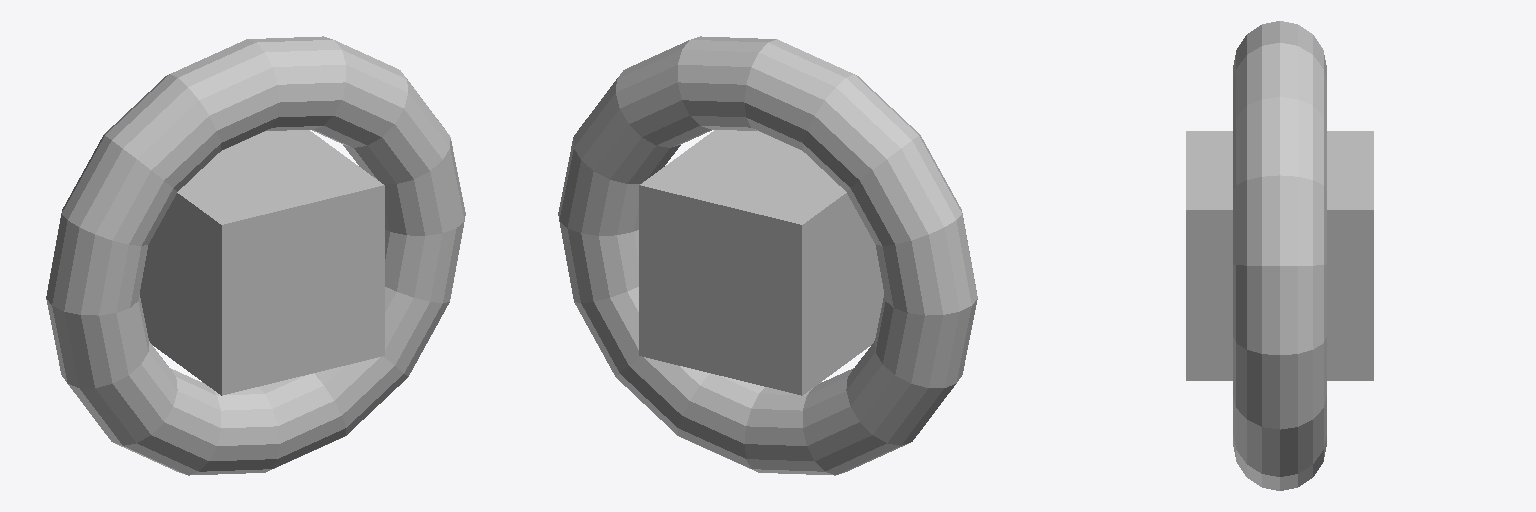
The model's file is tcube.obj.
The picture shows the model from 3 angles: view 1: azimuth 30°, elevation 25°; view 2: azimuth 150°, elevation 25°; view 3: azimuth 270°, elevation 25°; orthographic projection.
Visible parts, largest first — view 1: Torus, Cube; view 2: Torus, Cube; view 3: Torus, Cube.
Boxes of the visible parts, <box> form: Torus: <box>46,36,465,475</box>; Cube: <box>140,130,384,395</box>; Torus: <box>558,36,977,475</box>; Cube: <box>639,130,883,395</box>; Torus: <box>1233,21,1326,490</box>; Cube: <box>1186,131,1373,380</box>.
Size of the model in its own units: 5 by 5 by 2.